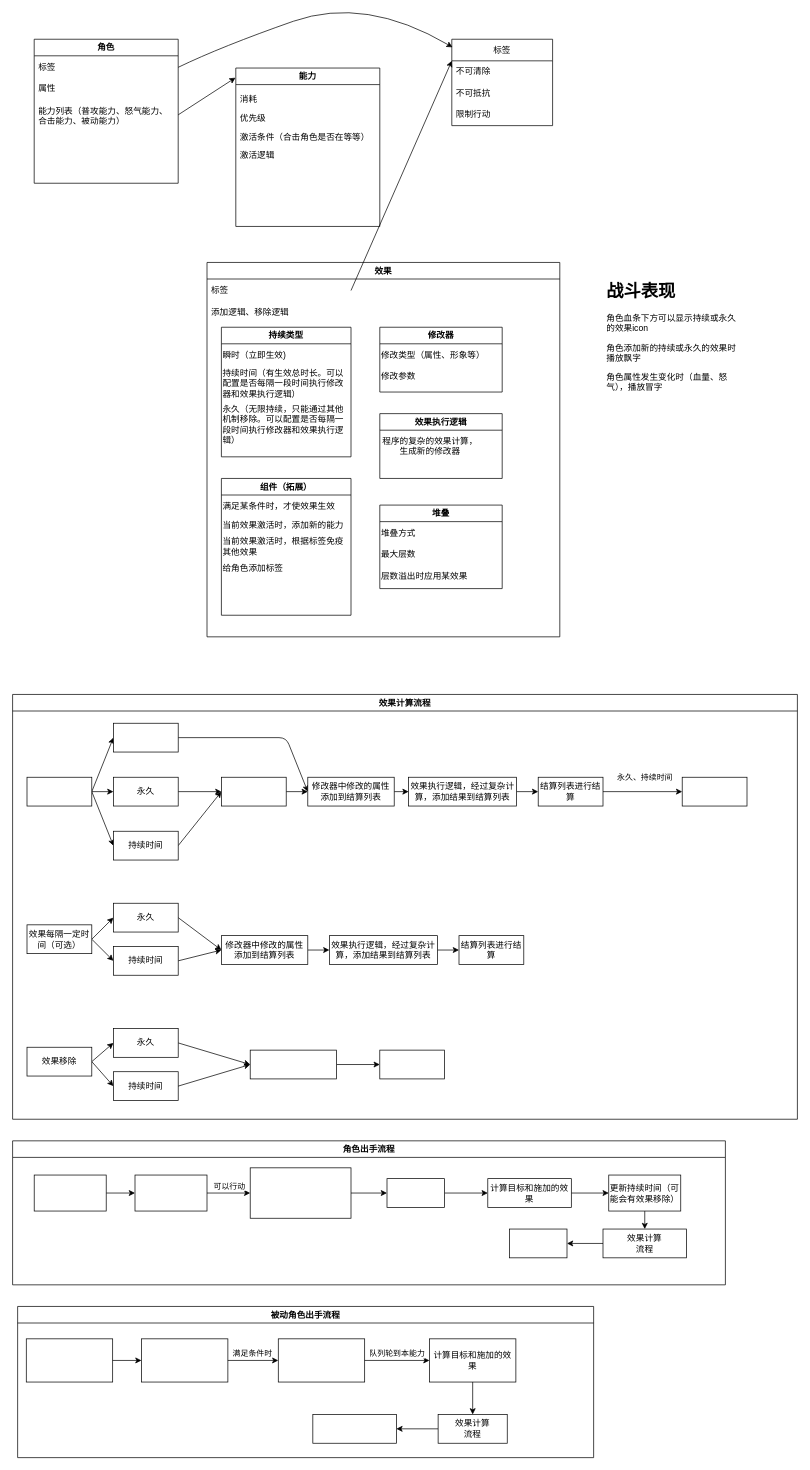
This 810x1470 diagram has some shape labels left out. Here are the shapes that lost their labels. From the top down, the centre of each, then its label:
point 145,737: 瞬时
point 59,791: 效果添加
point 253,791: 计算堆叠
point 714,791: 效果添加逻辑
point 293,1064: 还原修改器中修改的属性
point 412,1064: 效果移除逻辑
point 69,1192: 出手前更新持续时间（触发身上的持续时间效果）
point 170,1192: 身上是否有限制行动的标签
point 300,1192: 遍历角色拥有的能力，选择优先级高，且满足激活条件的能力
point 415,1192: 能力激活逻辑
point 538,1243: 结束能力
point 69,1360: 角色出场时添加通用的被动能力（触发时机、概率、次数)，并永久激活
point 184,1360: 能力激活逻辑，添加对特定条件的监听
point 321,1360: 给角色添加临时的能力，添加到触发队列
point 354,1428: 继续其他战斗逻辑
